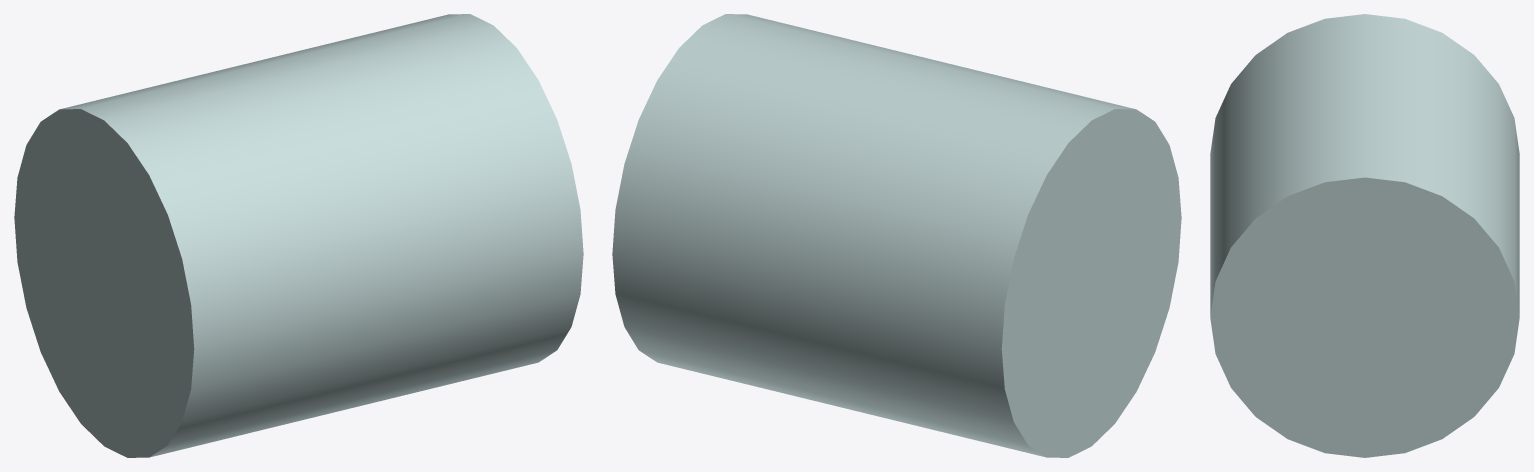
The picture shows the model from 3 angles, left to right: view 1: azimuth 30°, elevation 25°; view 2: azimuth 150°, elevation 25°; view 3: azimuth 270°, elevation 25°; orthographic projection. The views are drawn at different scales.
Parts seen in each view (by area): view 1: Group_84; view 2: Group_84; view 3: Group_84.
Part boxes in pixels (x1=…): Group_84: x1=14, y1=14, x2=583, y2=457; Group_84: x1=612, y1=14, x2=1181, y2=457; Group_84: x1=1210, y1=14, x2=1519, y2=457.
Bounding box in the file's own units: 236 × 189 × 189.
